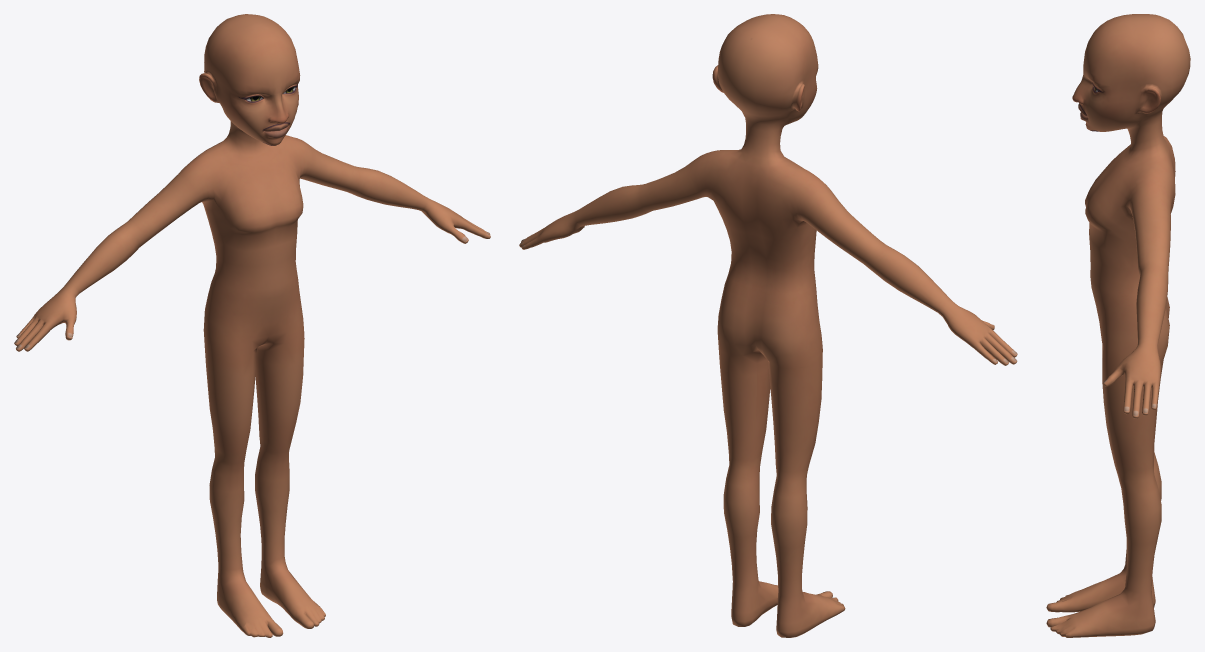
Rendered from frame_0044.glb.
3 views of the same model, side by side, from view 1: azimuth 30°, elevation 25°; view 2: azimuth 150°, elevation 25°; view 3: azimuth 270°, elevation 25° (orthographic). The views are drawn at different scales.
Visible parts, largest first — view 1: frame_0044_head_geo; view 2: frame_0044_head_geo; view 3: frame_0044_head_geo.
Boxes of the visible parts, <box> form: frame_0044_head_geo: <box>14,14,490,637</box>; frame_0044_head_geo: <box>519,14,1017,637</box>; frame_0044_head_geo: <box>1046,14,1190,637</box>.
Size of the model in its own units: 1.28 by 1.5 by 0.3253.
3 materials, 3 textured.
